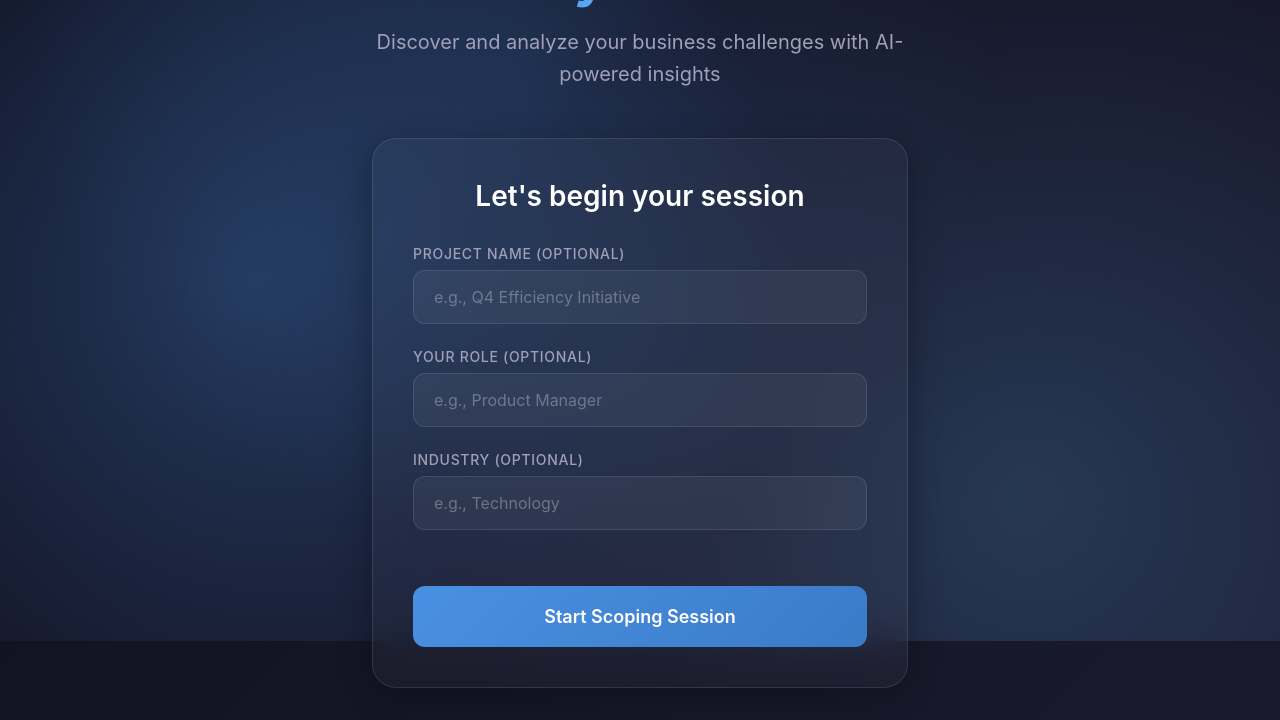
Test case: App › should handle message send error
The image size is (1280, 720).
(page scrolled)
# Start session
Click the button "Start Scoping Session": (640, 616) 413,586 -> 867,647
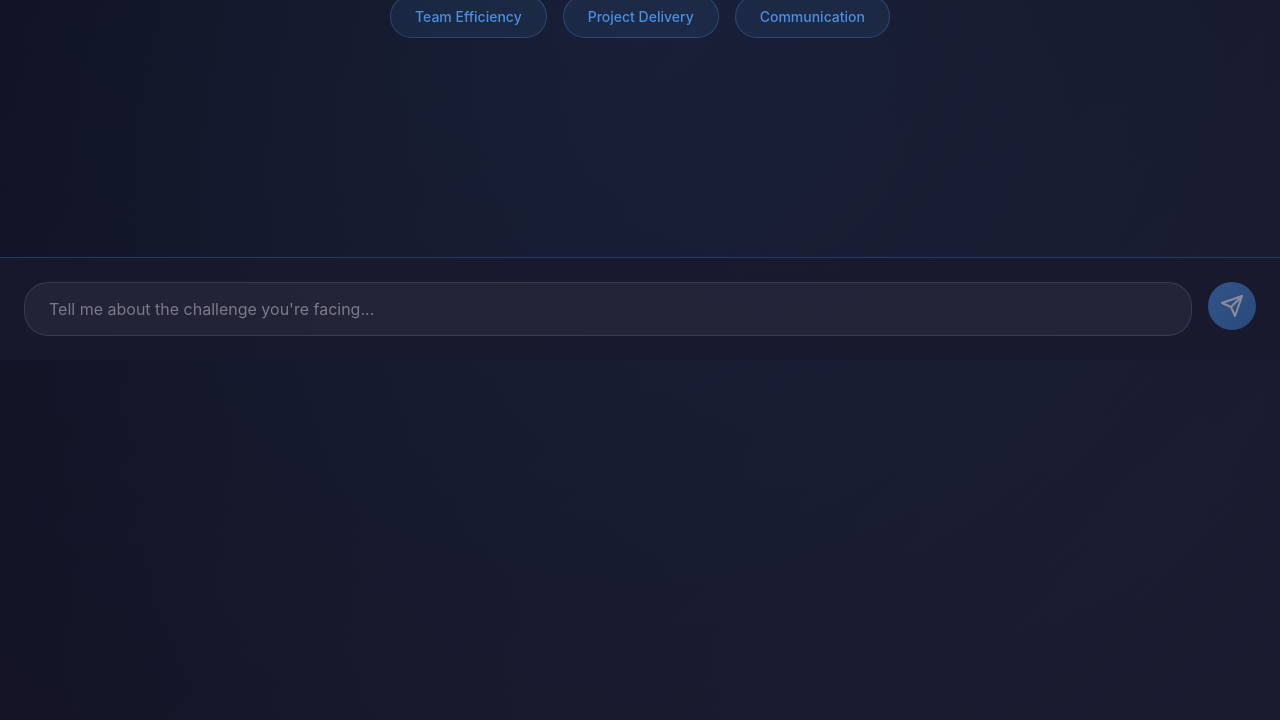
# Send message that fails
In the field with placeholder "Tell me about the challenge you're facing...": (608, 309) 24,282 -> 1192,336, type "Test message"
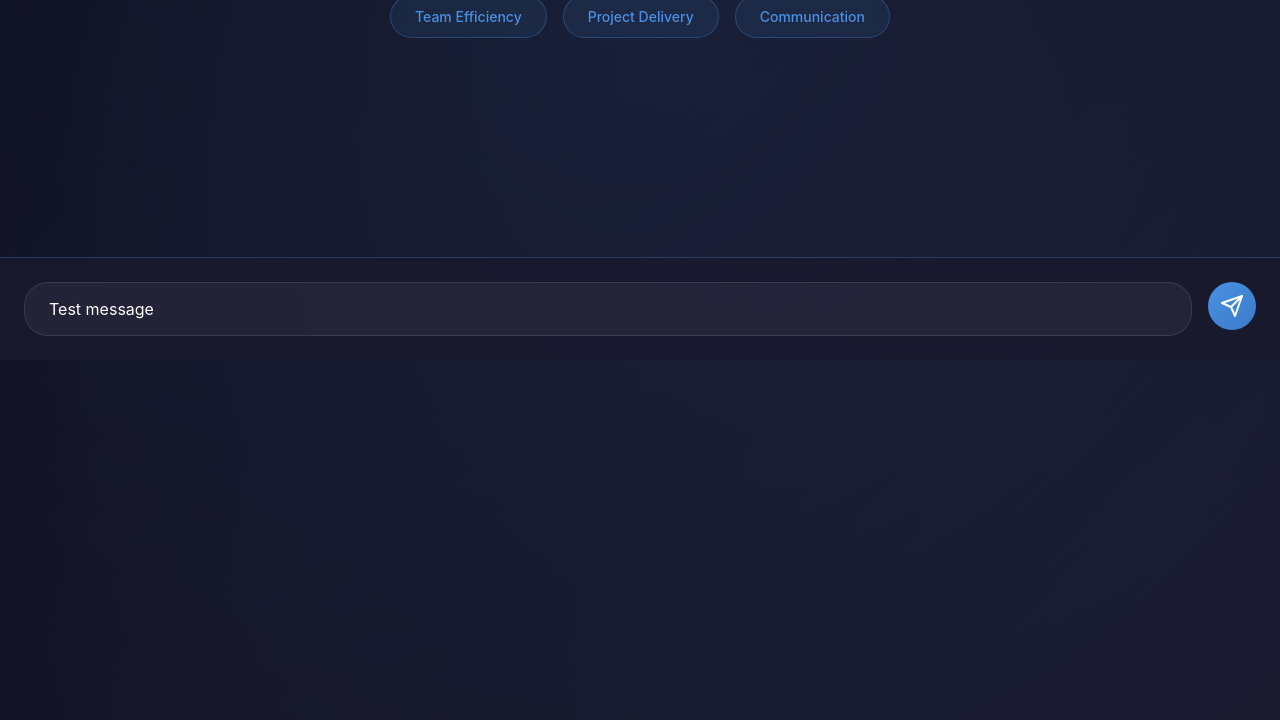
Submit the form with placeholder "Tell me about the challenge", box 0,257 -> 1279,360
(page scrolled)
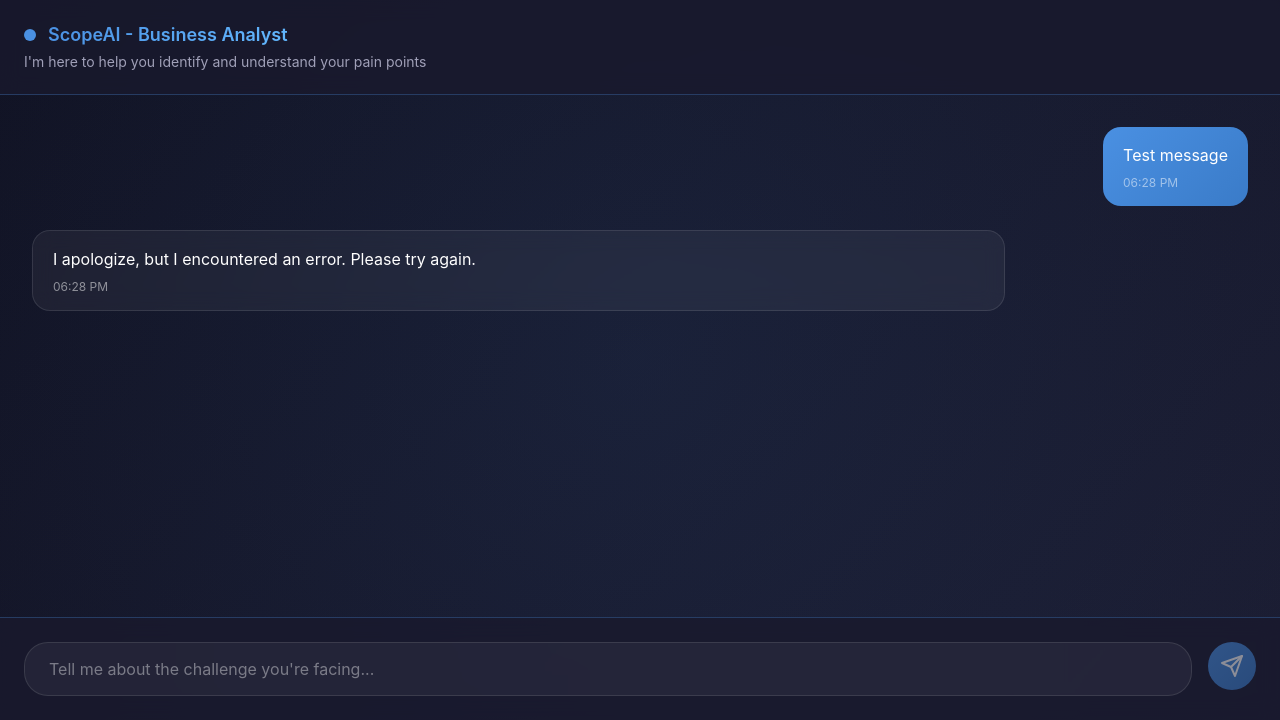
Result: the text "I apologize, but I encountered an error. Please try again." is shown at 53,249 -> 476,269
